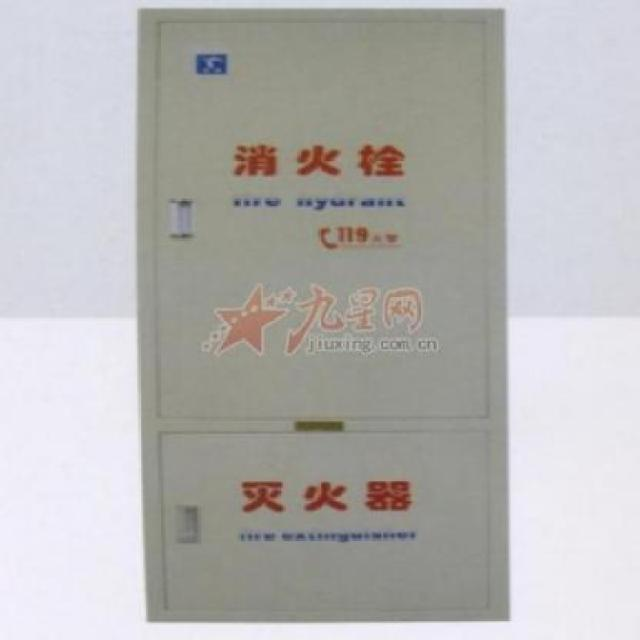firehydrant: (132, 4, 513, 628)
